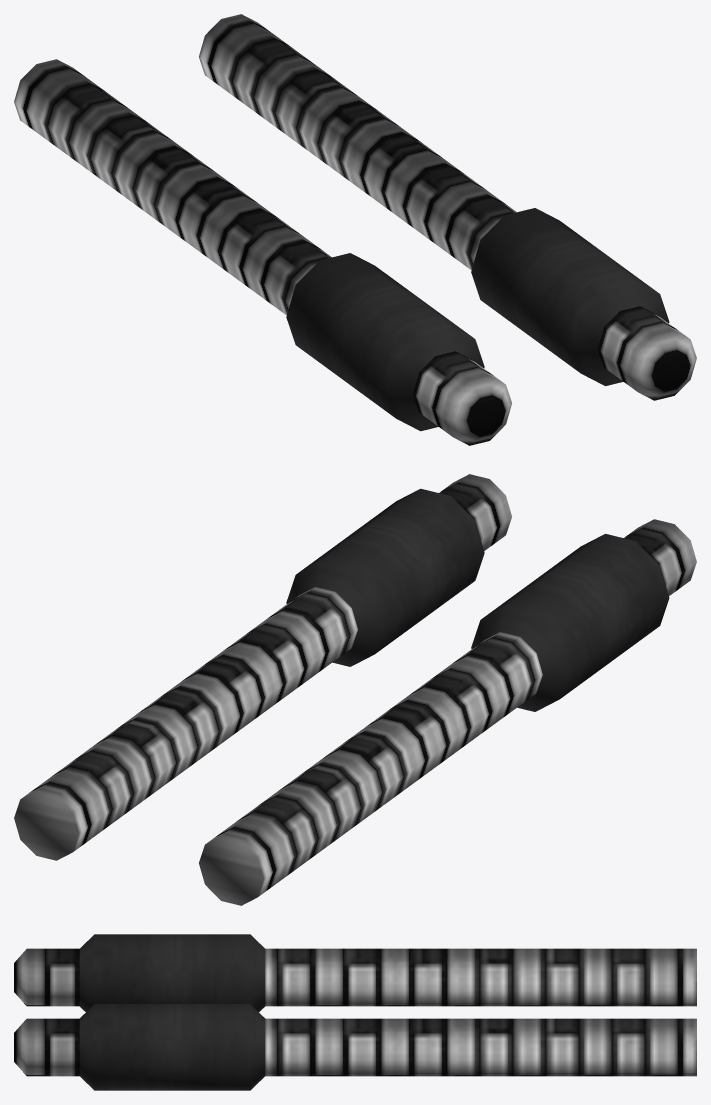
Rendered from AAACannonGuns.fbx.
3 views of the same model, one above another, from view 1: azimuth 30°, elevation 25°; view 2: azimuth 150°, elevation 25°; view 3: azimuth 270°, elevation 25° (orthographic). The views are drawn at different scales.
Visible parts, largest first — view 1: AAACannonGuns; view 2: AAACannonGuns; view 3: AAACannonGuns.
Part boxes in pixels (x1,y1,x2,y2): AAACannonGuns: (14,14,696,445); AAACannonGuns: (14,474,696,905); AAACannonGuns: (14,934,696,1090).
Size of the model in its own units: 39.08 by 12.87 by 106.
